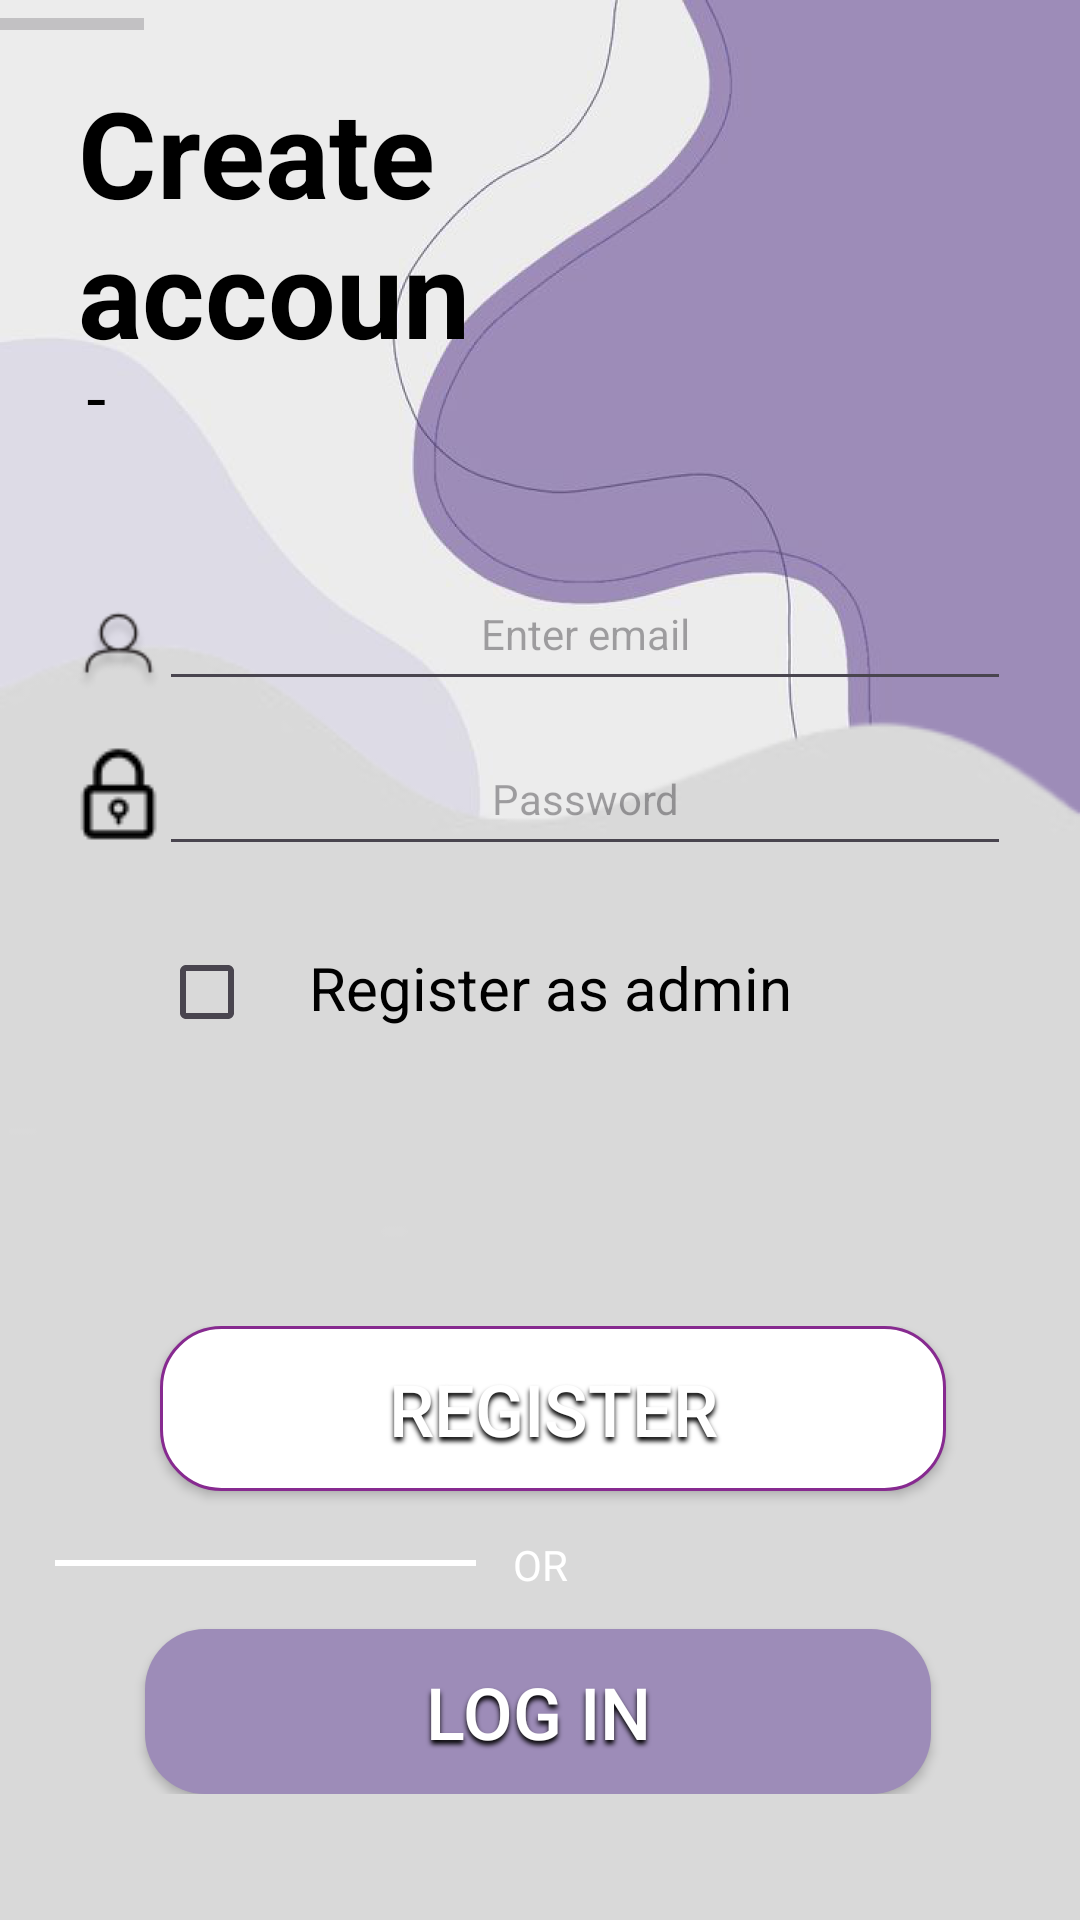

Named icons in this screenshot (1080x1920) and their centers, [x,y]:
usericon: [118,658]
